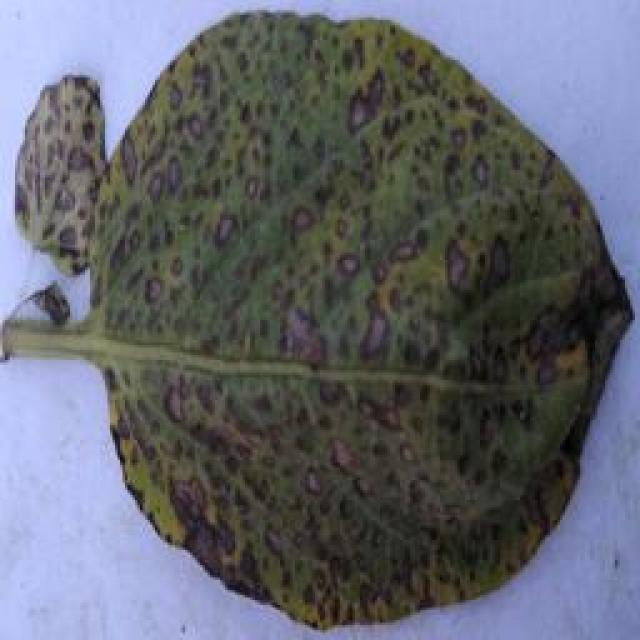Potato_Early_Blight: (100, 10, 640, 640), (11, 59, 111, 283)
